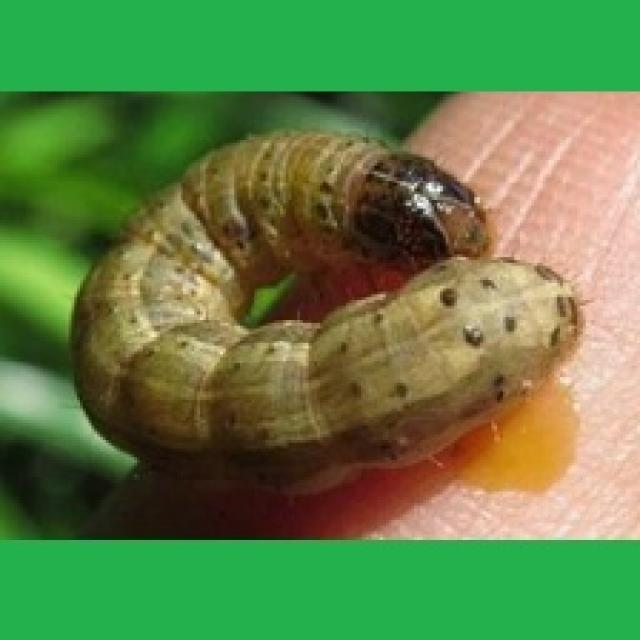Fall-armyworm: (56, 128, 588, 490)
